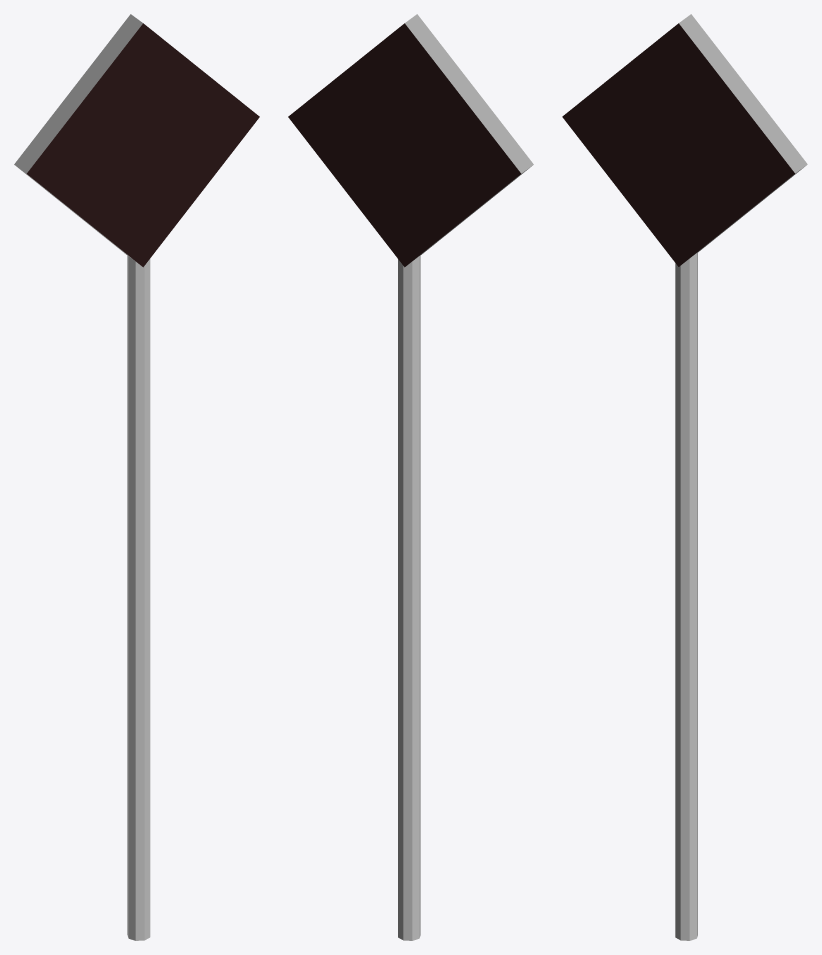
Rendered from Panneau4.fbx.
The picture shows the model from 3 angles, left to right: view 1: azimuth 30°, elevation 25°; view 2: azimuth 150°, elevation 25°; view 3: azimuth 330°, elevation 25°; orthographic projection.
Visible parts, largest first — view 1: pCube4, pCylinder8; view 2: pCube4, pCylinder8; view 3: pCube4, pCylinder8.
Boxes of the visible parts, box(x1,y1,x2,y2) form: pCube4: box(14, 14, 259, 267); pCylinder8: box(127, 255, 150, 940); pCube4: box(288, 14, 533, 267); pCylinder8: box(398, 255, 420, 940); pCube4: box(562, 14, 807, 266); pCylinder8: box(675, 252, 697, 940).
Bounding box in the file's own units: 4.41 × 16.59 × 0.4129.
